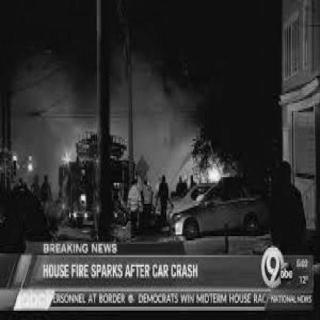other: (56, 146, 72, 214)
